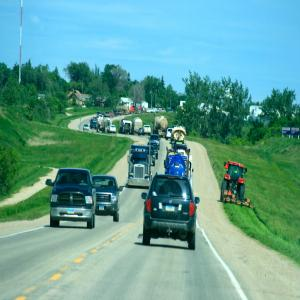Vehicle-registration-plate: (167, 206, 176, 213), (69, 212, 76, 217), (100, 207, 106, 211)
